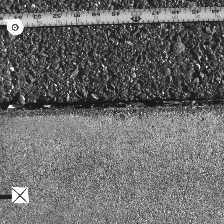circle: (6, 18, 24, 35)
crack: (1, 95, 223, 111)
square: (11, 186, 28, 204)
